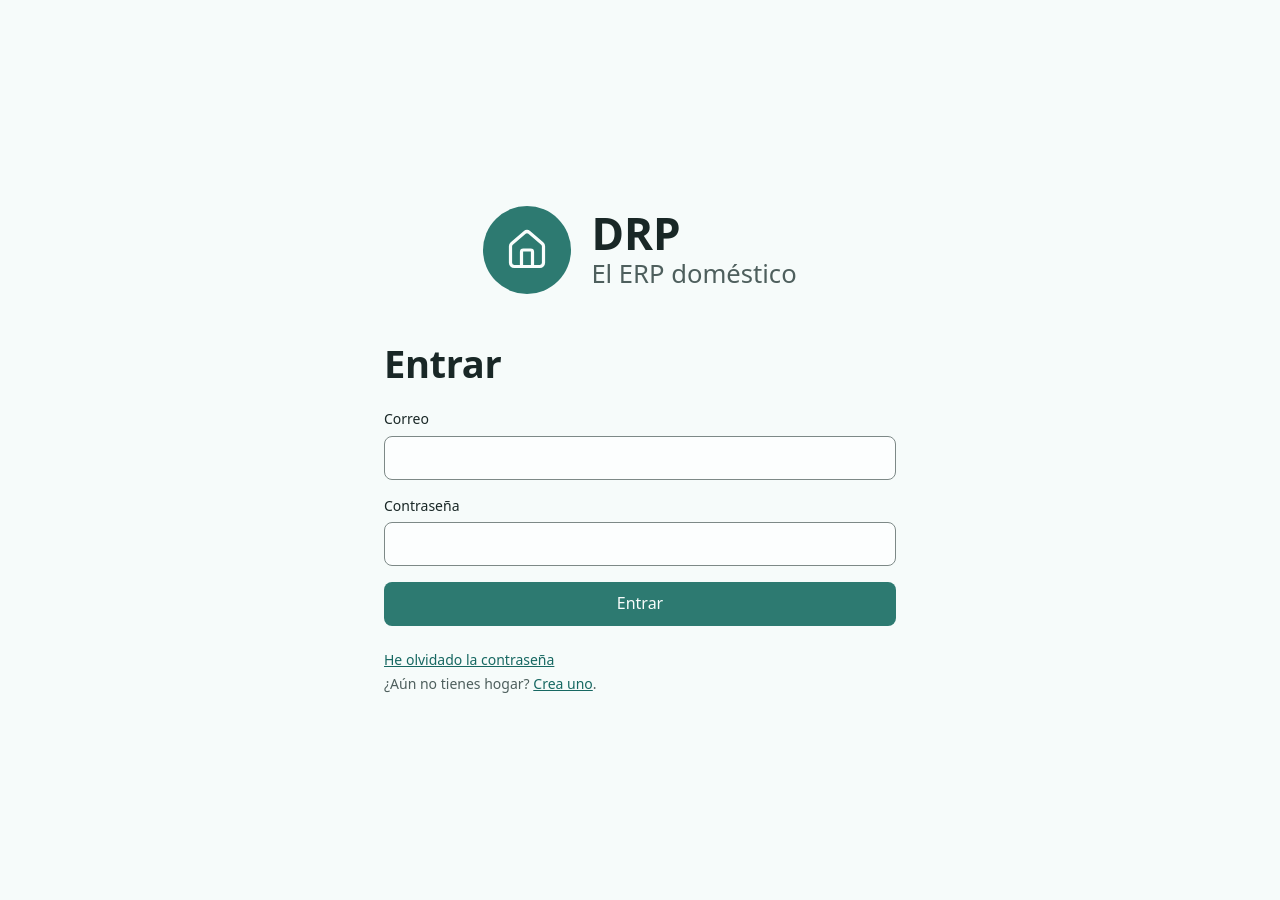
Scenario: renovación ante un 401 › renueva y rehace la petición original con el token nuevo
The width and height of the screenshot is (1280, 900).
Type "kike@example.test" into the field labelled "Correo".
click(640, 458); type("kike@example.test")  # box [384, 436, 896, 480]
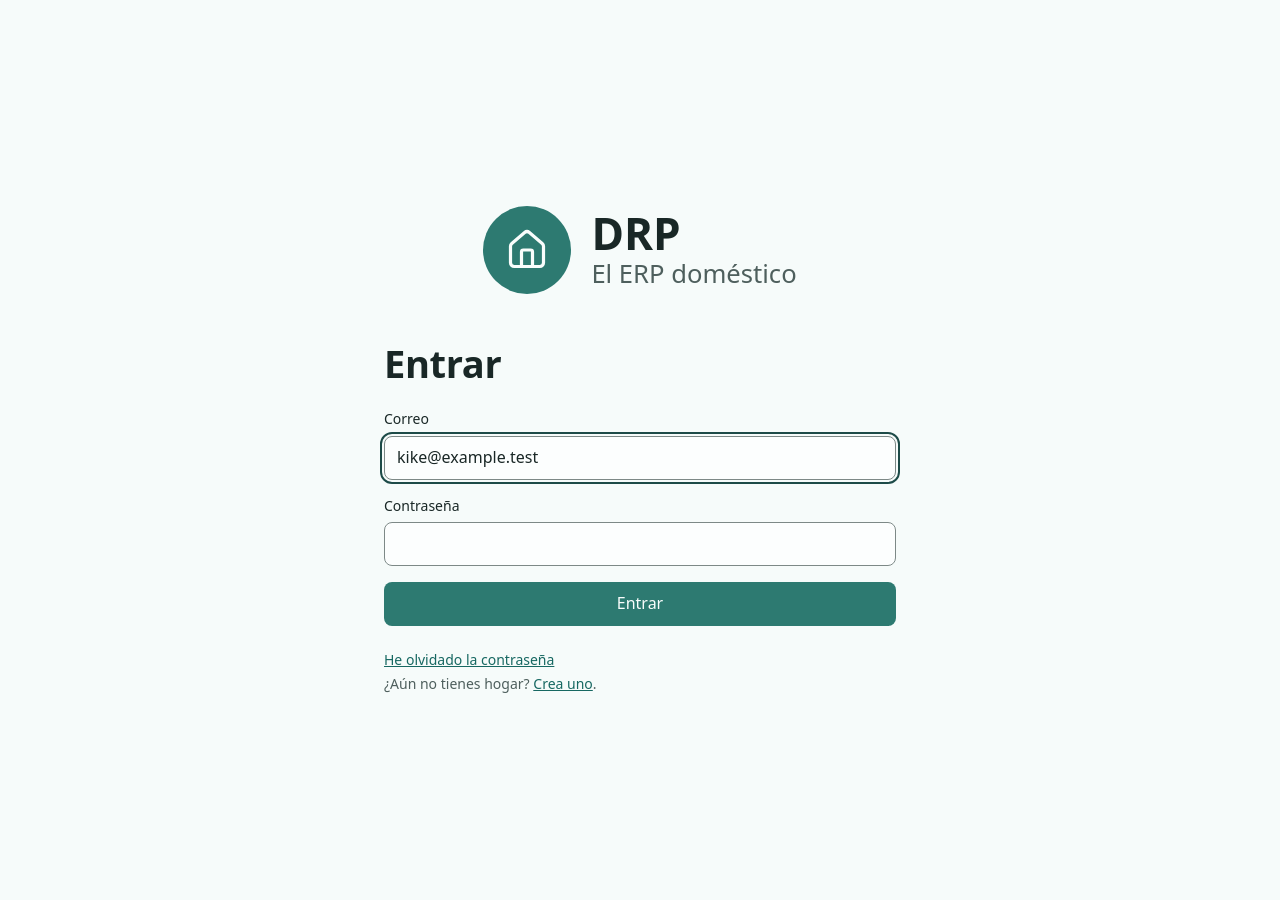
Type "el gato duerme en el sofa" into the password field labelled "Contraseña".
click(640, 544); type("el gato duerme en el sofa")  # box [384, 522, 896, 566]
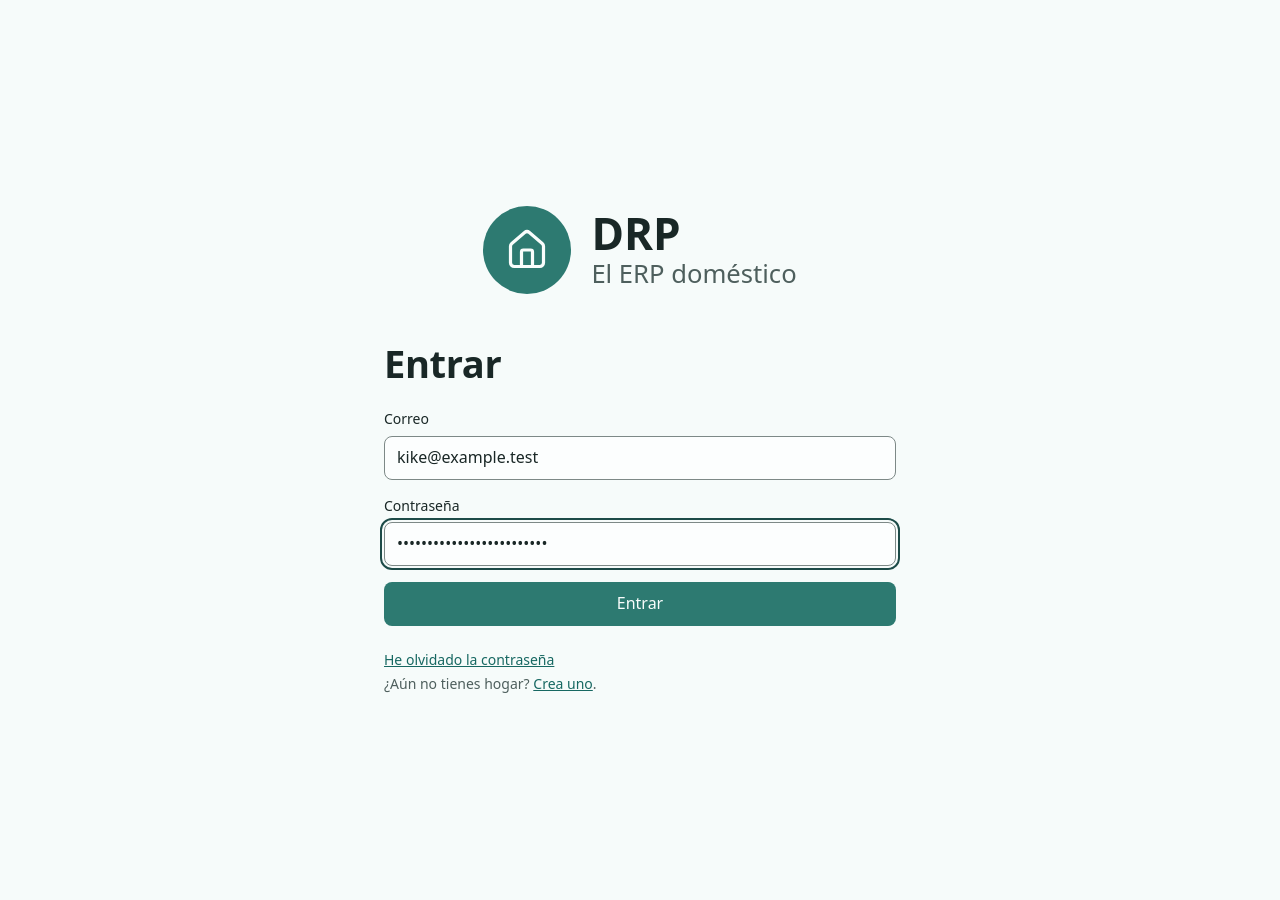
Click the button "Entrar".
click(640, 604)  # box [384, 582, 896, 626]
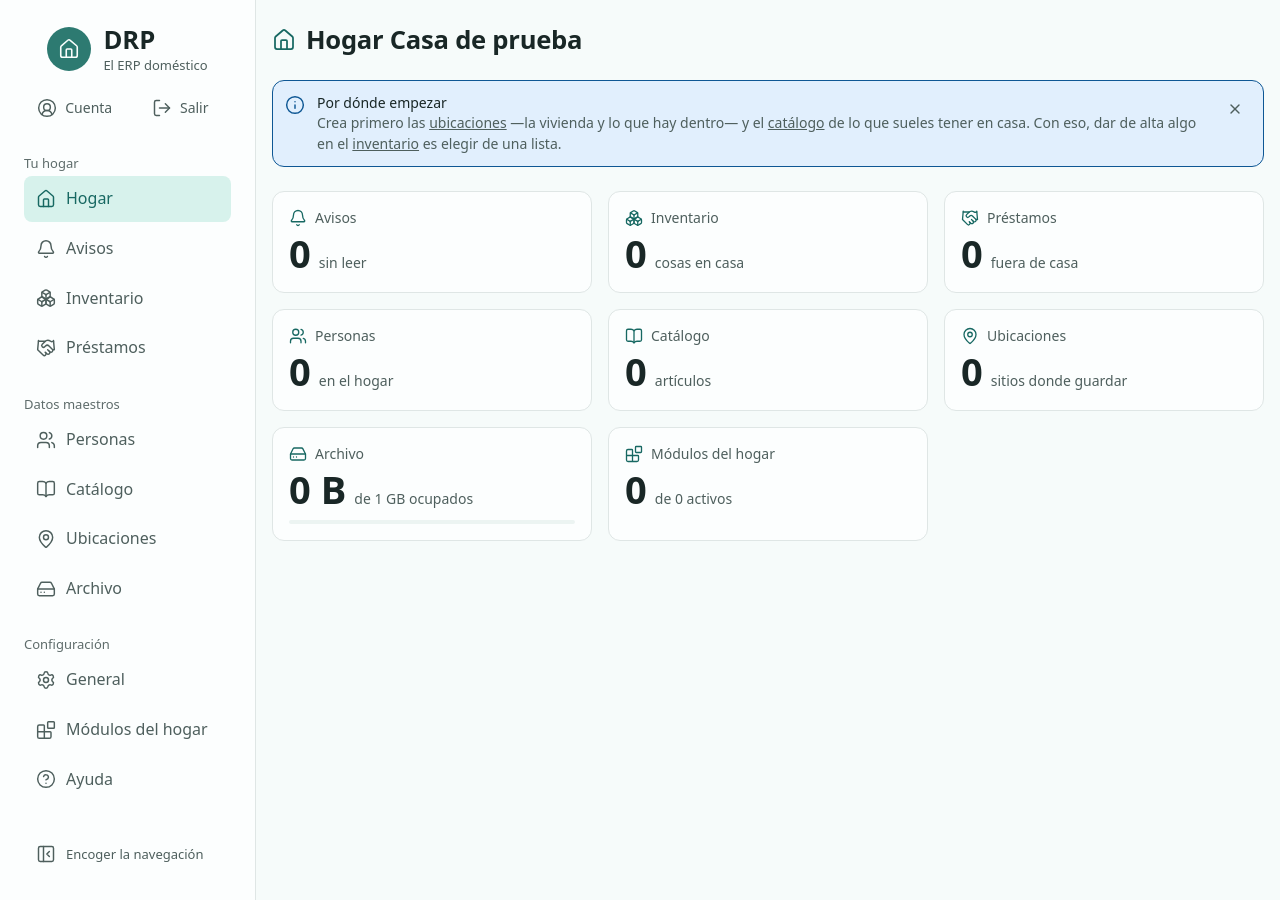
Expected: the heading "Hogar Casa de prueba" is shown, [306, 24, 582, 56]
Click the link "Personas".
click(86, 439)  # box [36, 428, 135, 450]
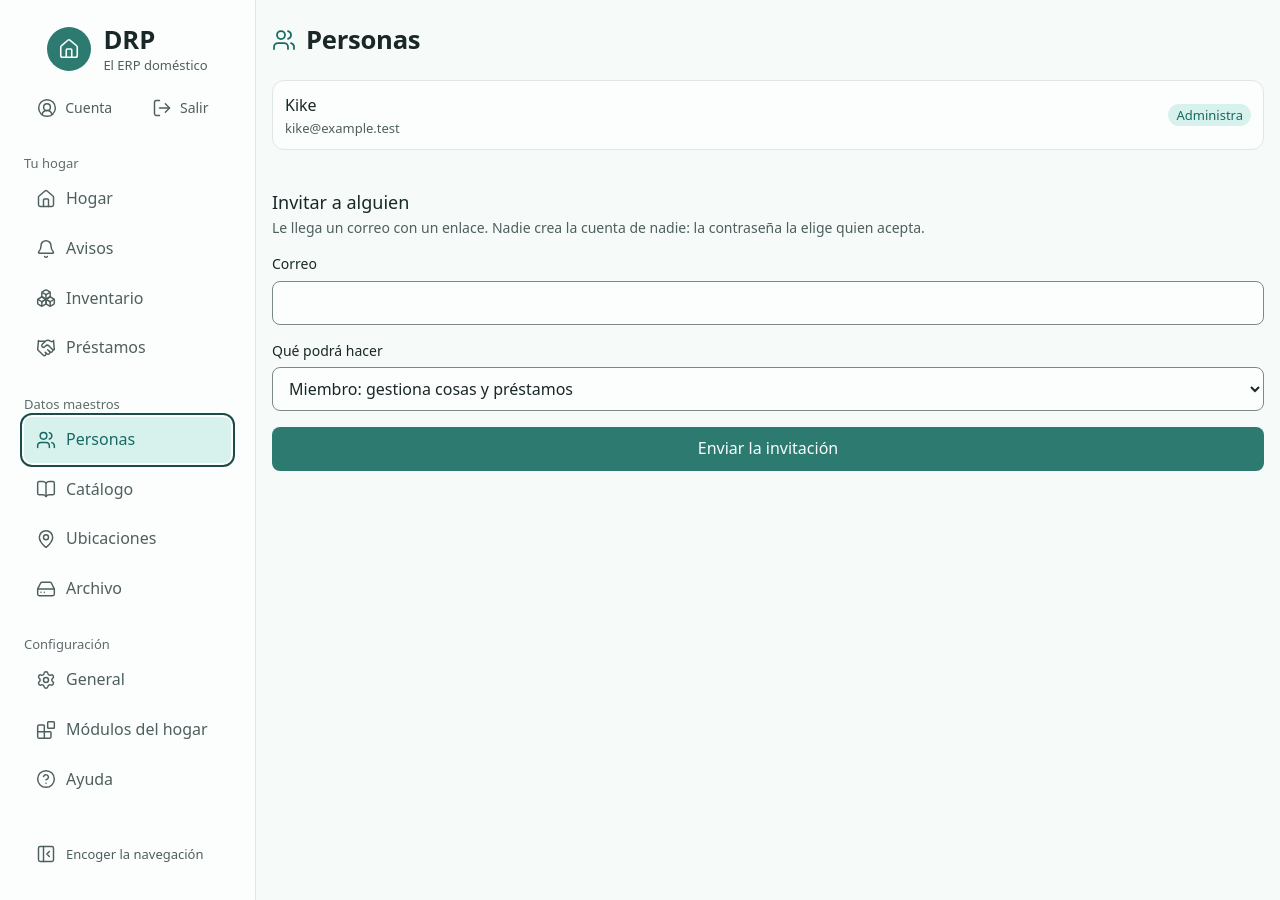
Expected: the text "kike@example.test" is shown, [285, 119, 400, 137]
